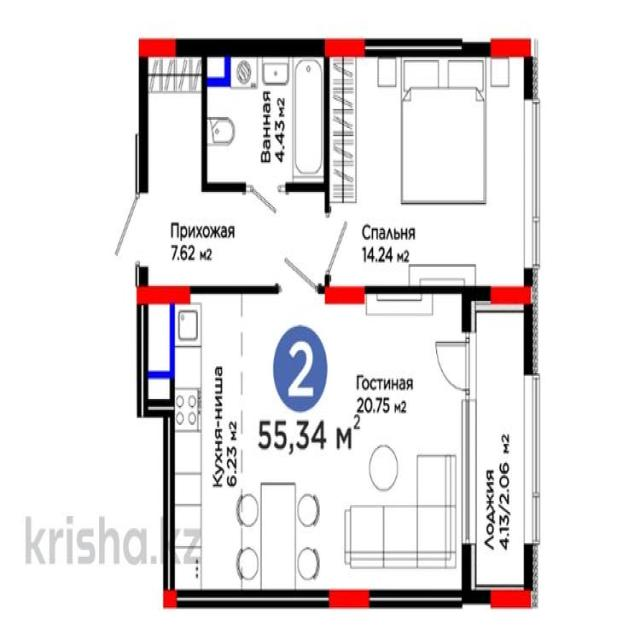balcony: (469, 290, 534, 601)
bathroom: (202, 46, 328, 190)
hallway: (140, 185, 328, 293)
living_room: (327, 44, 531, 287)
studio: (175, 293, 469, 596)
